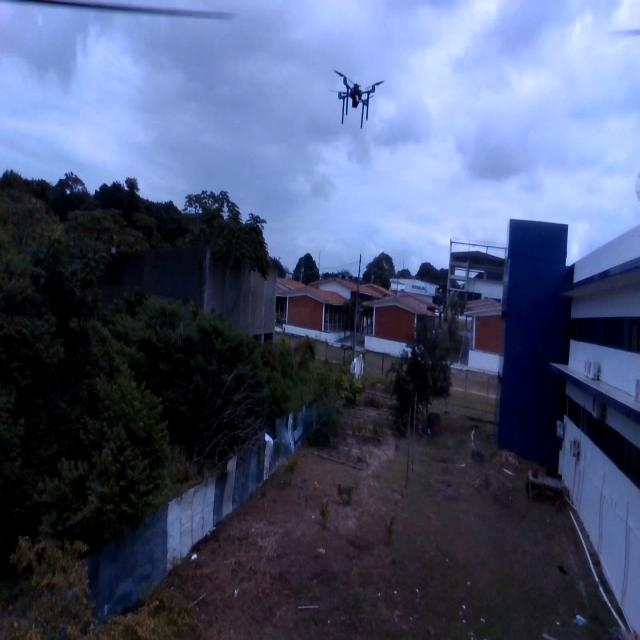-uav-: (325, 56, 392, 135)
